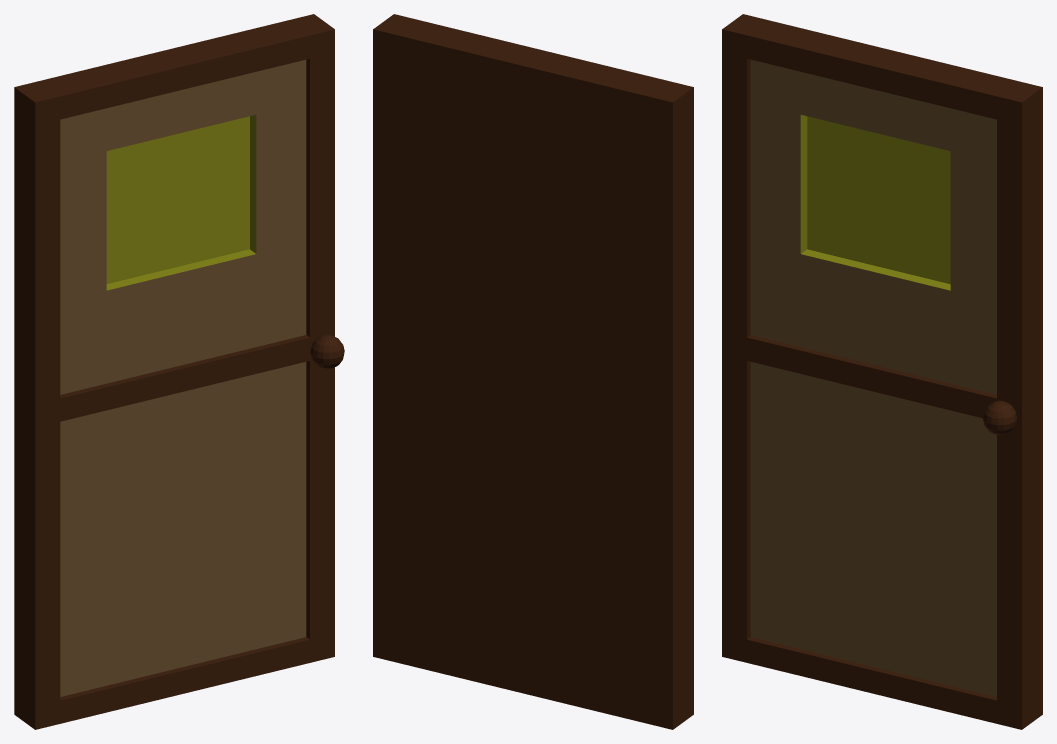
Rendered from drzwi_puzzle.fbx.
The picture shows the model from 3 angles, left to right: view 1: azimuth 30°, elevation 25°; view 2: azimuth 150°, elevation 25°; view 3: azimuth 330°, elevation 25°; orthographic projection.
Parts seen in each view (by area): view 1: Cube; view 2: Cube; view 3: Cube.
Part boxes in pixels (x1,y1,x2,y2): Cube: [14, 14, 344, 729]; Cube: [373, 14, 693, 729]; Cube: [722, 14, 1042, 729].
Size of the model in its own units: 400 by 800 by 85.21.
